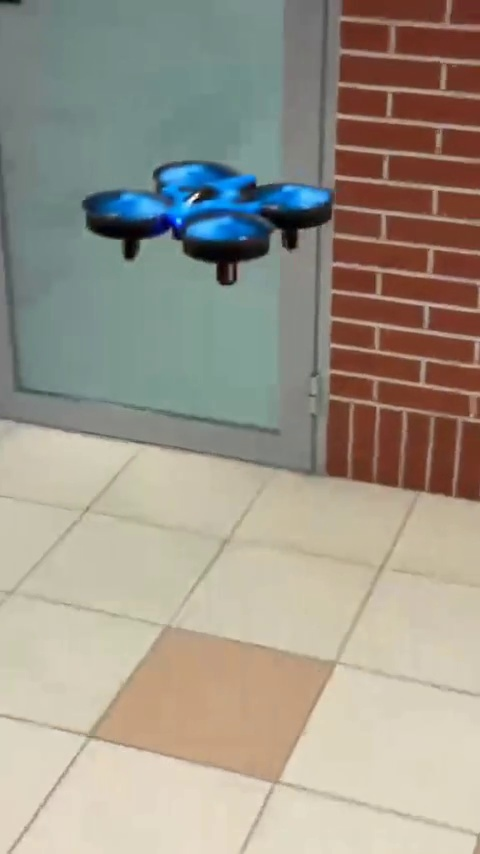drone: (77, 154, 343, 285)
